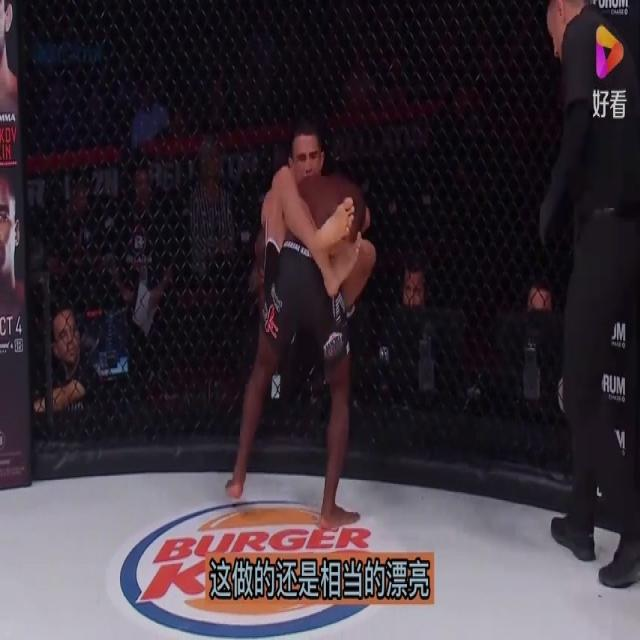fight: (224, 116, 385, 553)
non-fight: (534, 2, 640, 590)
